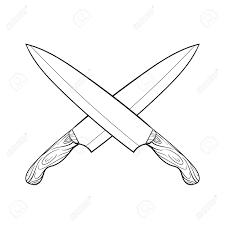Knife: (24, 42, 200, 185)
